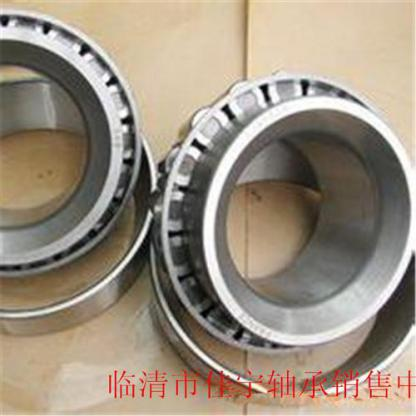FOD: (0, 6, 146, 281)
